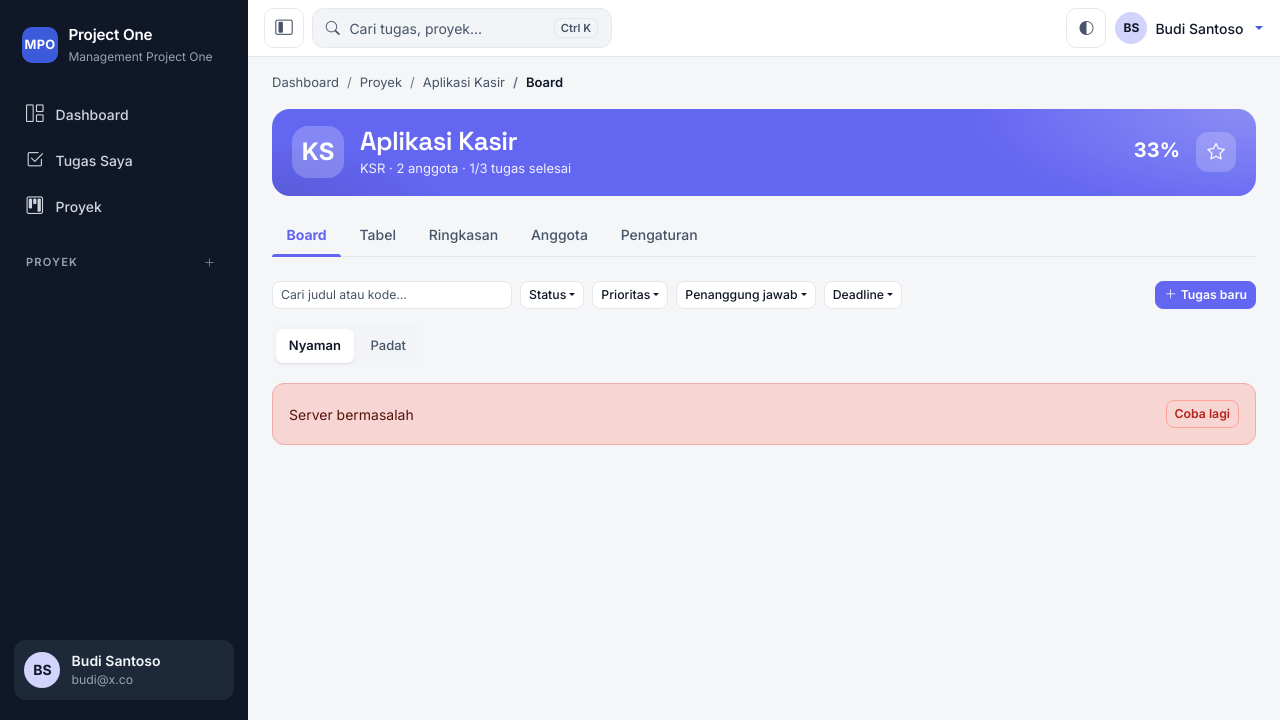
board › gagal memuat: pesan error dan coba lagi
Expected: the text "Server bermasalah" is shown, 289,404 -> 414,425
What coordinates should you click on to do the following:
click the button "Coba lagi"
I would click on:
 (1202, 414)
Its box is 1166,400 -> 1239,428.
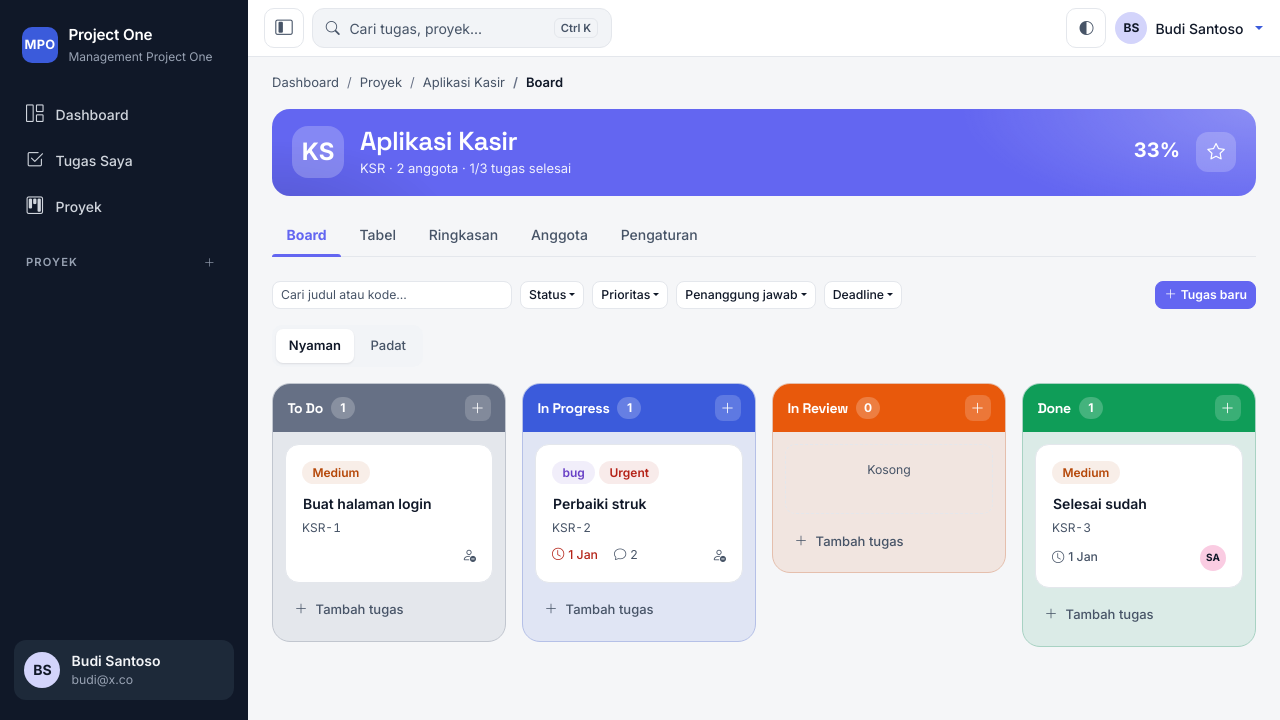
Expected: the element named "Kolom To Do" is shown, 272,383 -> 506,642
